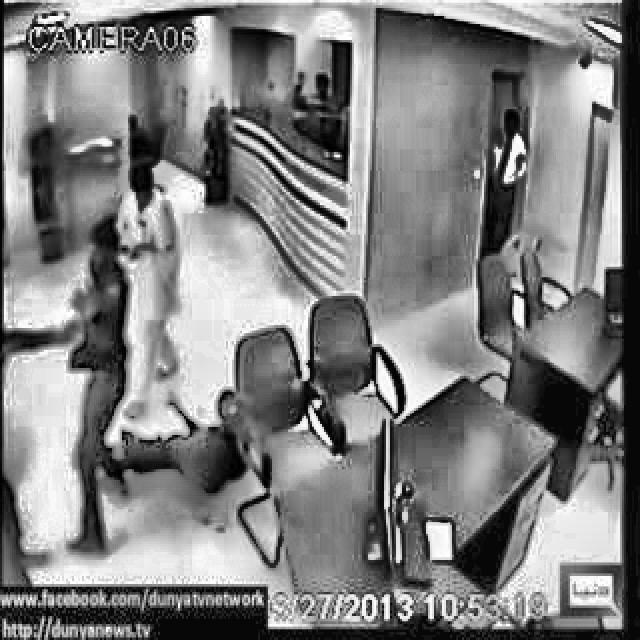robbery: (63, 218, 134, 556), (115, 162, 185, 417)
